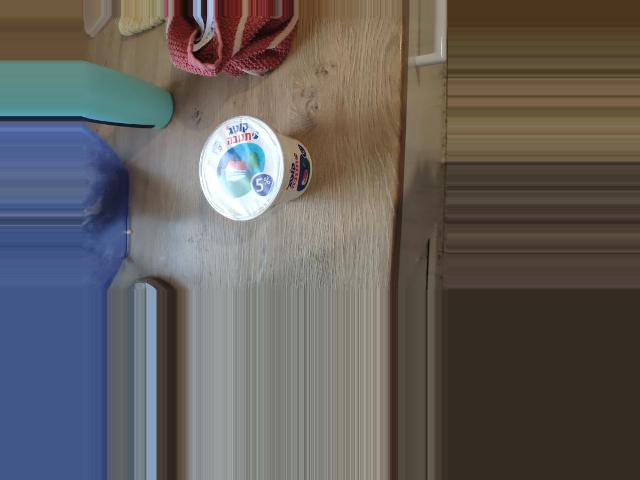cotage: (193, 121, 316, 214)
